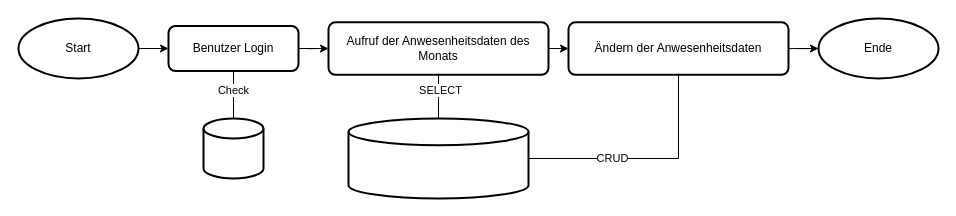
Some shapes in this 956 by 216 pixel diagram are drawn without their labels. Here are the shapes that lost their labels. From the top down, the centre of each, then its label:
point (233, 148): AD
point (438, 158): Anwesenheitsdatenbank
